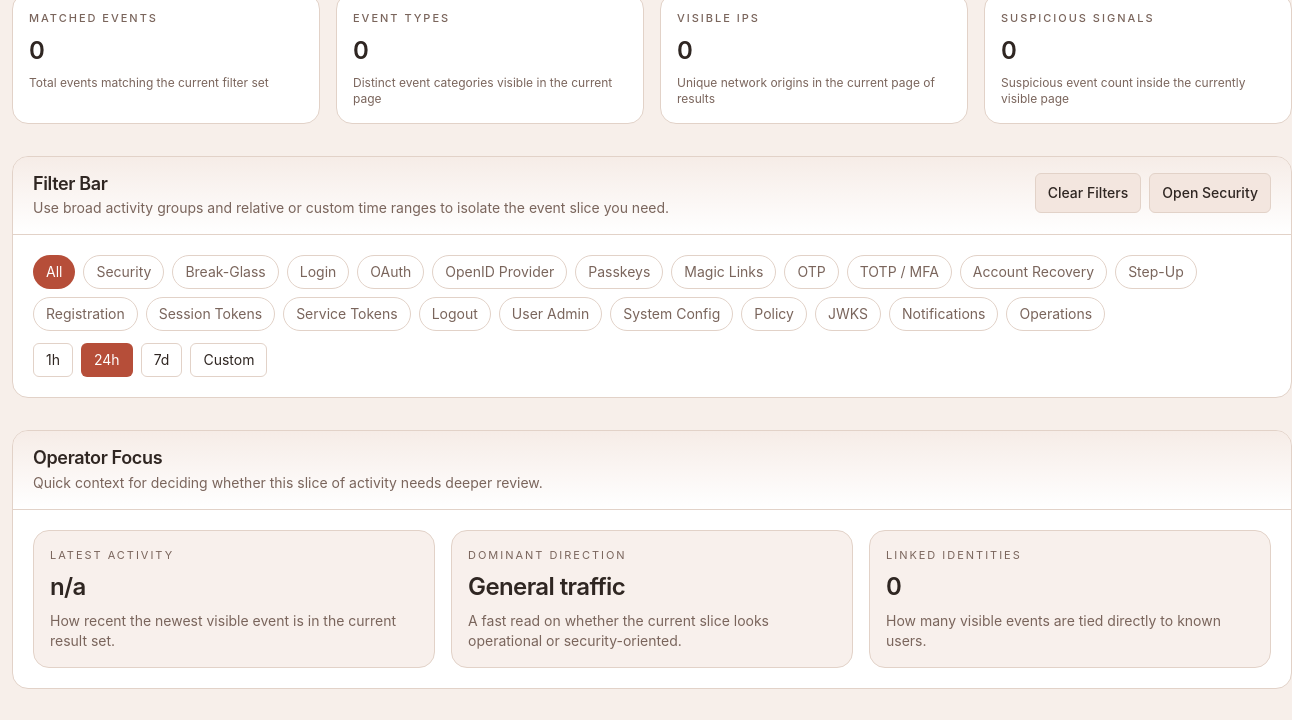
Test: Events time range › keeps a relative range selected instead of falling back to custom
The image size is (1292, 720).
(page scrolled)
Click the button "1h". click: (53, 360)
box: [33, 343, 73, 377]
(page scrolled)
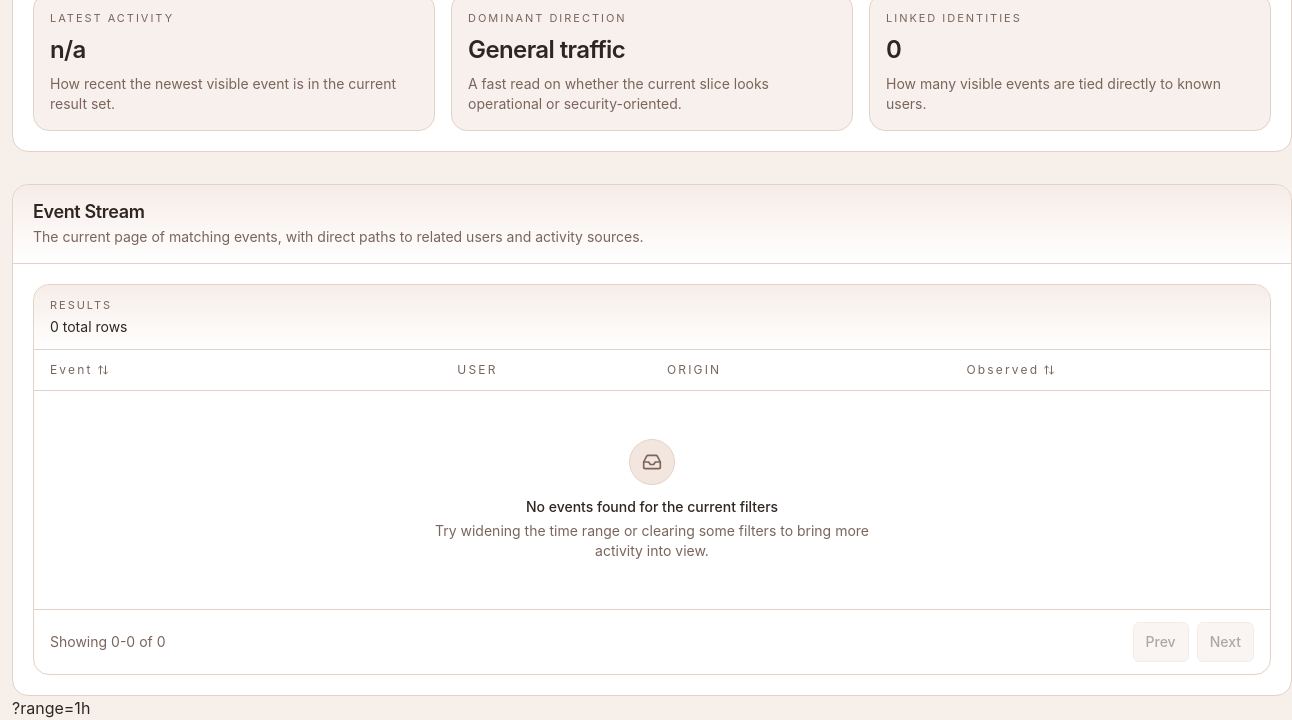
expect the text with test id "search" shows "range=1h": met, box [12, 698, 90, 718]
